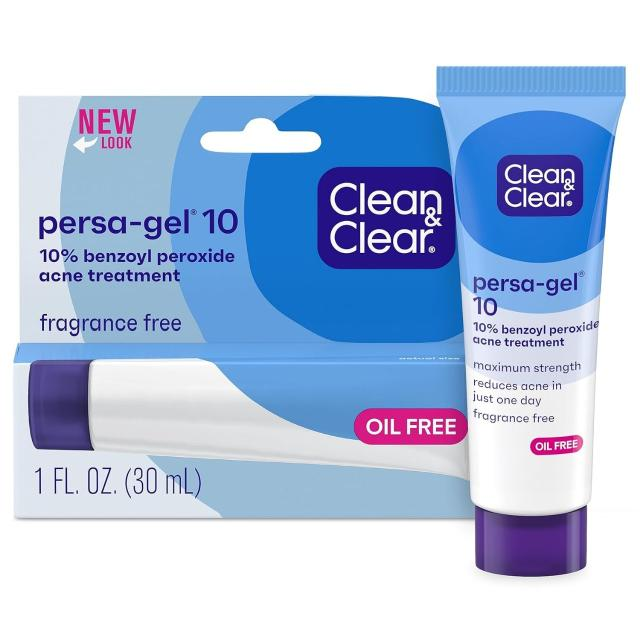cosmotic: (21, 100, 466, 520), (468, 76, 605, 562)
